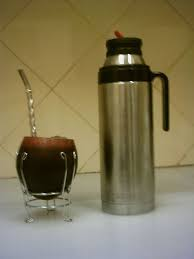mate: (15, 135, 80, 201)
